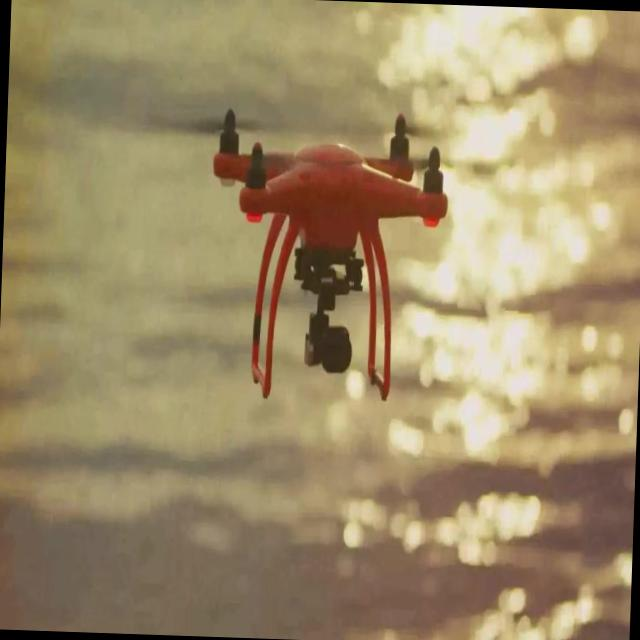drone: (203, 102, 452, 406)
